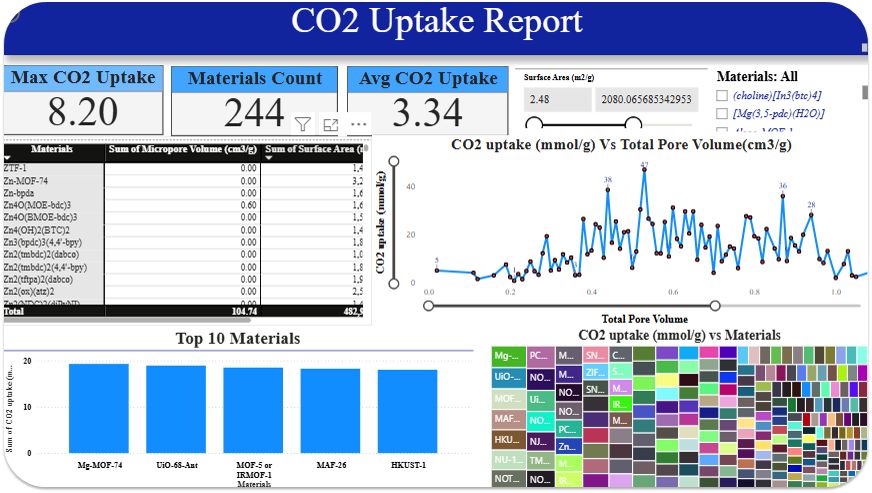

The page's visual inventory and layout, read from the dashboard file:
{"tool":"powerbi","page":{"name":"CO2 uptake ","canvas":[1280,720],"ordinal":0},"visuals":[{"type":"textbox","title":"CO2 Uptake Report","box":[10.2,0,1270.2,82],"z":0},{"type":"textbox","box":[147.8,434.6,402.4,152.2],"z":1000},{"type":"card","title":"Max CO2 Uptake","fields":{"Values":["Sheet1 (2).Max CO2 Uptake"]},"box":[8.8,96.6,235.6,102.4],"z":2000},{"type":"textbox","box":[167,541,245,151],"z":3000},{"type":"card","title":"Materials Count ","fields":{"Values":["Sheet1 (2).Material Count"]},"box":[256.1,98,244.4,102.4],"z":4000},{"type":"card","title":"Avg CO2 Uptake","fields":{"Values":["Sheet1 (2).Avg CO2 Uptake"]},"box":[513.7,98,235.6,102.4],"z":5000},{"type":"tableEx","fields":{"Values":["Sheet1 (2).Materials","Sum(Sheet1 (2).Micropore Volume (cm3/g))","Sum(Sheet1 (2).Surface Area (m2/g))","Sum(Sheet1 (2).CO2 uptake (mmol/g))"]},"box":[0,199.9,551,277.2],"z":6000},{"type":"actionButton","box":[0,0,100,40],"z":7000},{"type":"lineChart","title":" CO2 uptake (mmol/g) Vs Total Pore Volume(cm3/g)","fields":{"Category":["Sheet1 (2).Total Pore Volume(cm3/g)"],"Y":["Sum(Sheet1 (2).CO2 uptake (mmol/g))"]},"box":[550.2,199,730.2,281],"z":8000},{"type":"treemap","title":"CO2 uptake (mmol/g) vs Materials","fields":{"Values":["Sum(Sheet1 (2).CO2 uptake (mmol/g))"],"Group":["Sheet1 (2).Materials"]},"box":[720,480,560.5,240],"z":9000},{"type":"lineStackedColumnComboChart","title":"Top 10 Materials","fields":{"Category":["Sheet1 (2).Materials"],"Y":["Sum(Sheet1 (2).CO2 uptake (mmol/g))"]},"box":[8.4,480.4,690.4,240.2],"z":10000},{"type":"slicer","fields":{"Values":["Sheet1 (2).Materials"]},"box":[1042,96.6,228.3,102.4],"z":11000},{"type":"slicer","fields":{"Values":["Sheet1 (2).Surface Area (m2/g)"]},"box":[759.5,96.6,282.4,92.2],"z":12000}]}

Visuals, with their boxes in screenshot pixels (x1, y1, x2, y2), scaled from the page's 1280x720 canvas onto the 872x493 screenshot:
"CO2 Uptake Report" textbox: x1=7, y1=0, x2=871, y2=56
textbox: x1=101, y1=298, x2=375, y2=402
"Max CO2 Uptake" card: x1=6, y1=66, x2=166, y2=136
textbox: x1=114, y1=370, x2=281, y2=474
"Materials Count " card: x1=174, y1=67, x2=341, y2=137
"Avg CO2 Uptake" card: x1=350, y1=67, x2=510, y2=137
tableEx - Sheet1 (2).Materials x Sum(Sheet1 (2).Micropore Volume (cm3/g)): x1=0, y1=137, x2=375, y2=327
actionButton: x1=0, y1=0, x2=68, y2=27
" CO2 uptake (mmol/g) Vs Total Pore Volume(cm3/g)" lineChart: x1=375, y1=136, x2=871, y2=329
"CO2 uptake (mmol/g) vs Materials" treemap: x1=490, y1=329, x2=871, y2=492
"Top 10 Materials" lineStackedColumnComboChart: x1=6, y1=329, x2=476, y2=492
slicer - Sheet1 (2).Materials: x1=710, y1=66, x2=865, y2=136
slicer - Sheet1 (2).Surface Area (m2/g): x1=517, y1=66, x2=710, y2=129
